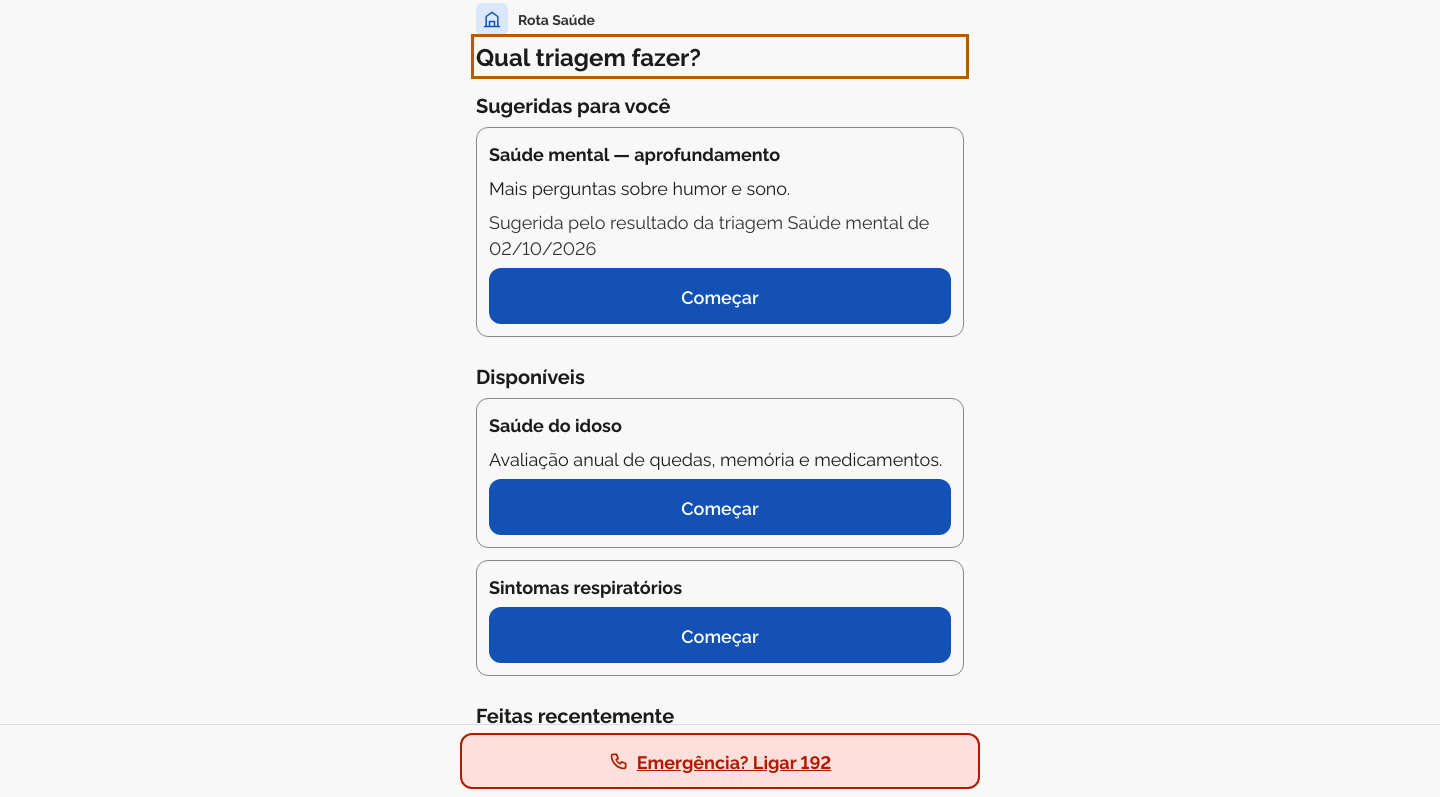
Test: CatalogStep › com um início pendente, os botões do rodapé ficam desabilitados
Click the button "Começar" below "Saúde do idoso" at (720, 507), box x1=489 y1=479 x2=951 y2=535
(page scrolled)
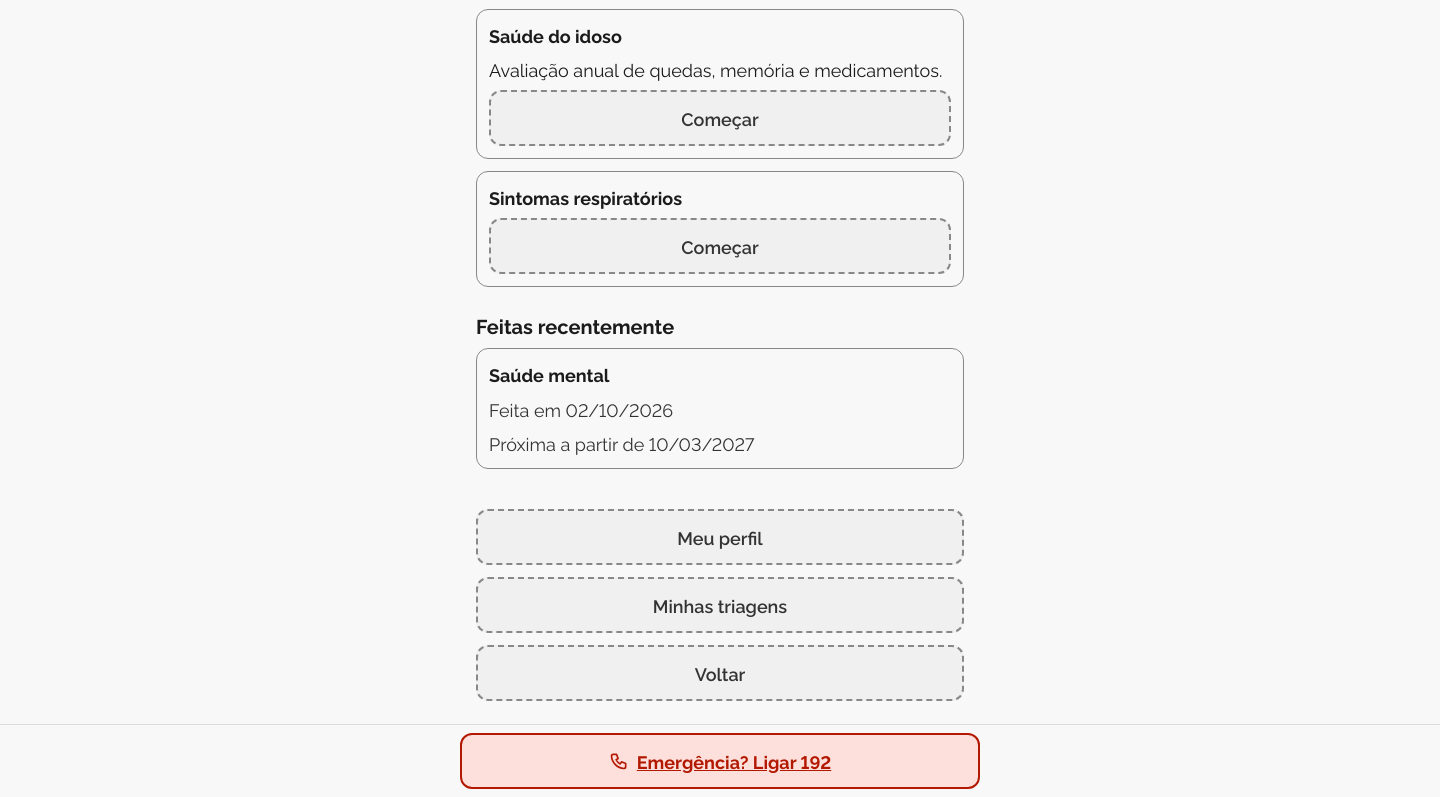
Expected: the button "Meu perfil" is disabled, x1=476 y1=509 x2=964 y2=565
Expected: the button "Minhas triagens" is disabled, x1=476 y1=577 x2=964 y2=633
Expected: the button "Voltar" is disabled, x1=476 y1=645 x2=964 y2=701
